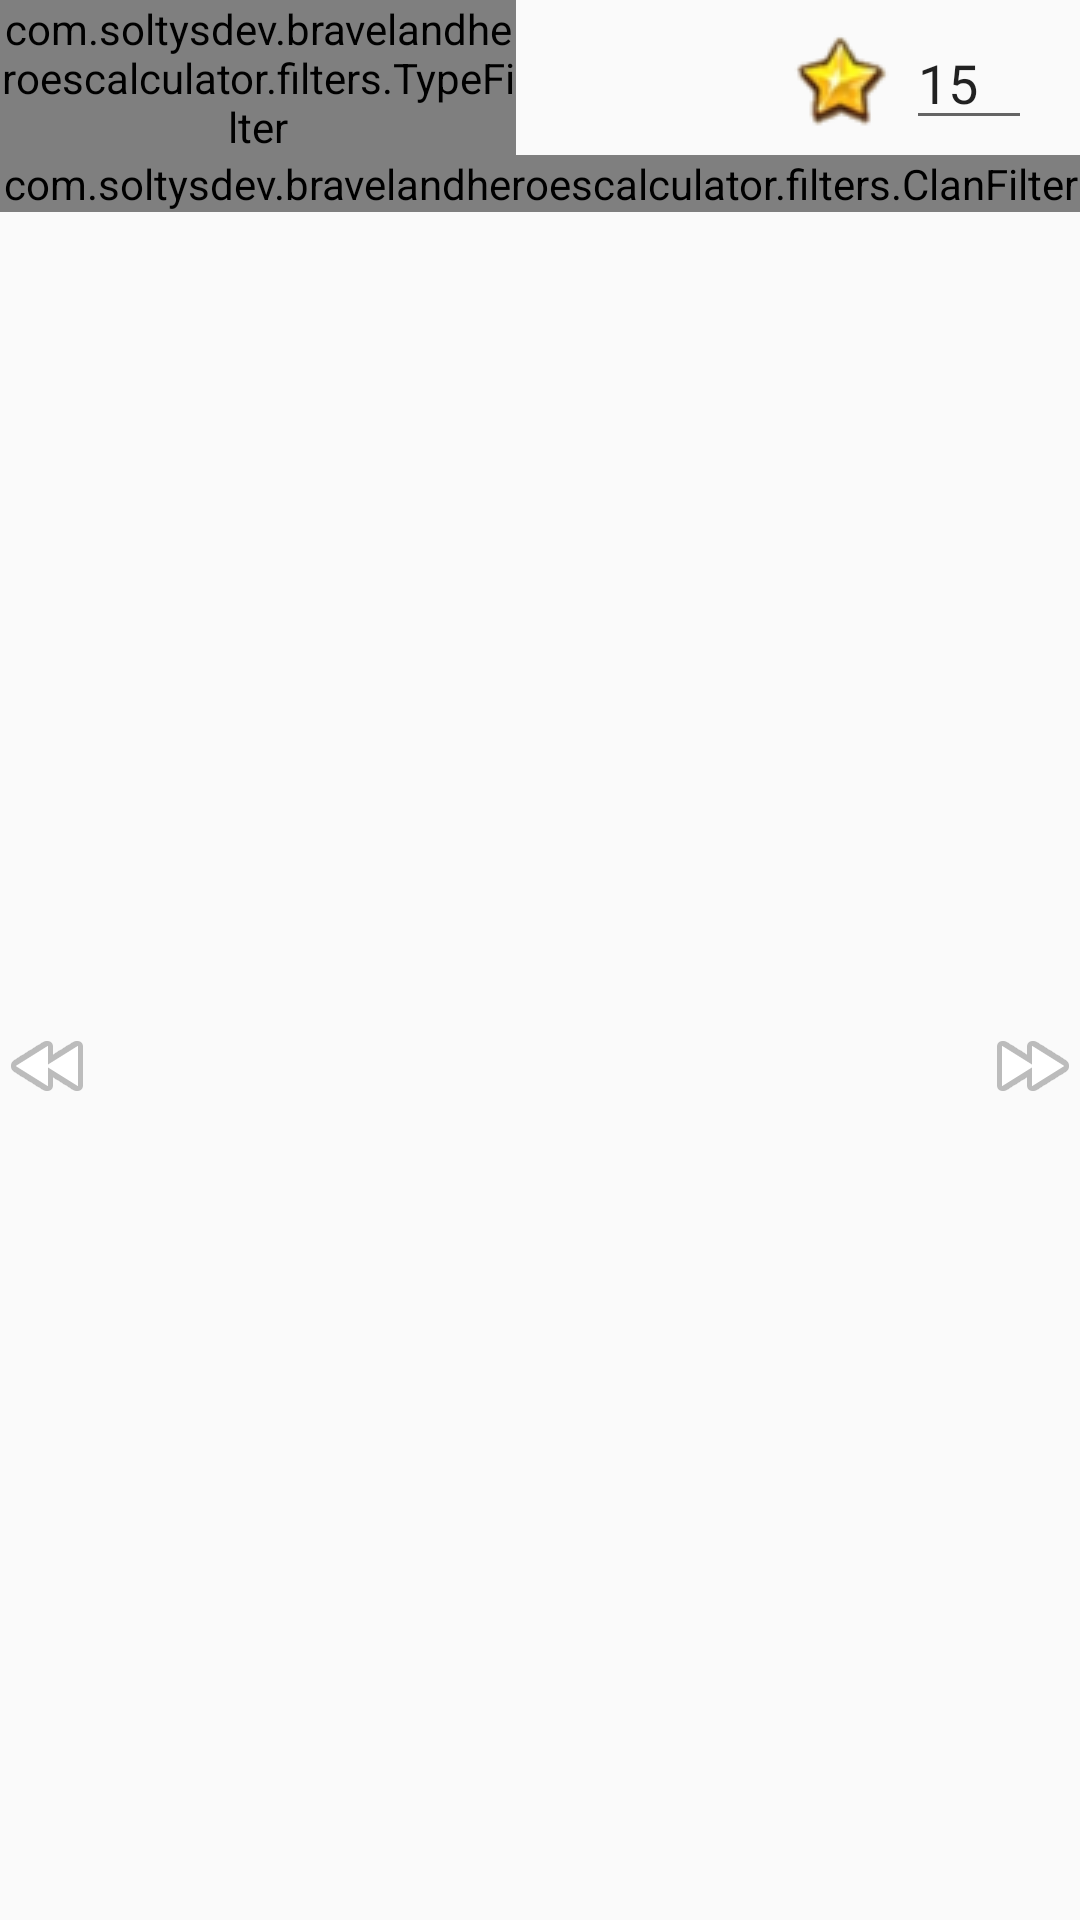

Screen size 1080*1920. Icon name, then its center in pixels as [x,y]:
rew: [47,1066]
star: [841,81]
